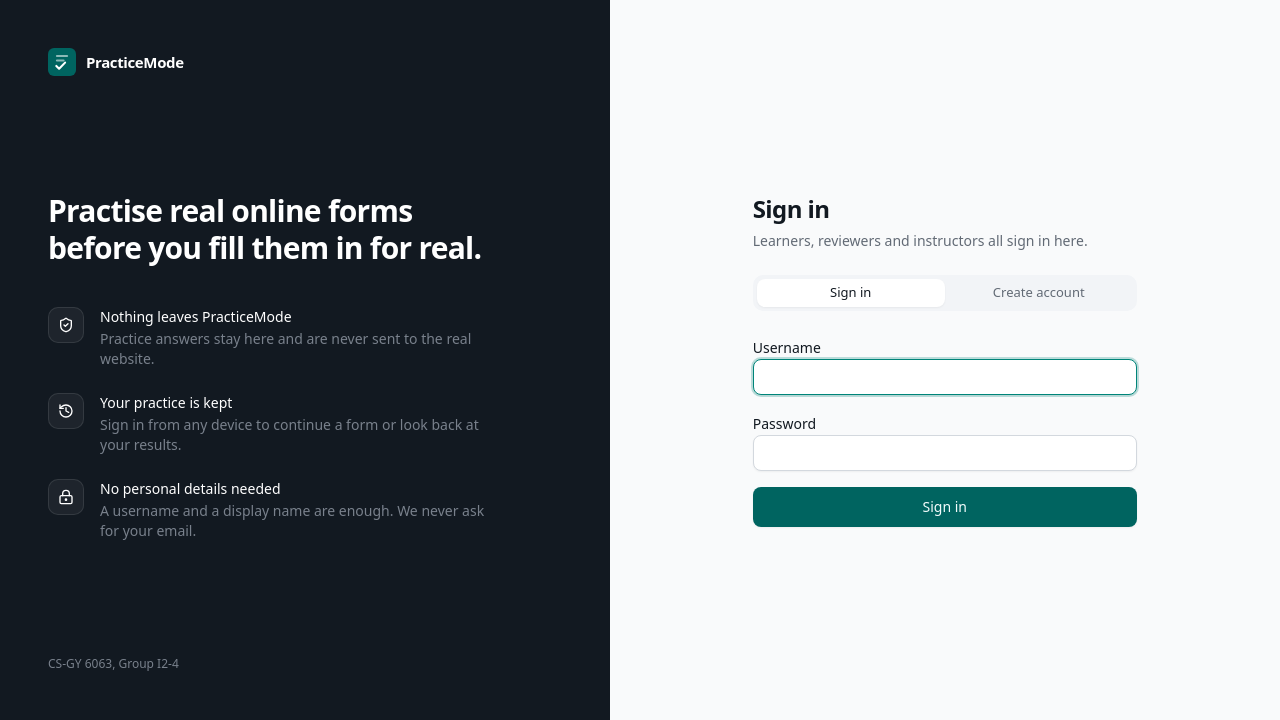
Test case: SignIn › AC-02: invalid credentials show an error and do not sign in
Step 1. Type "maya_r" into the field labelled "Username" → (945, 377), box [753,359,1137,395]
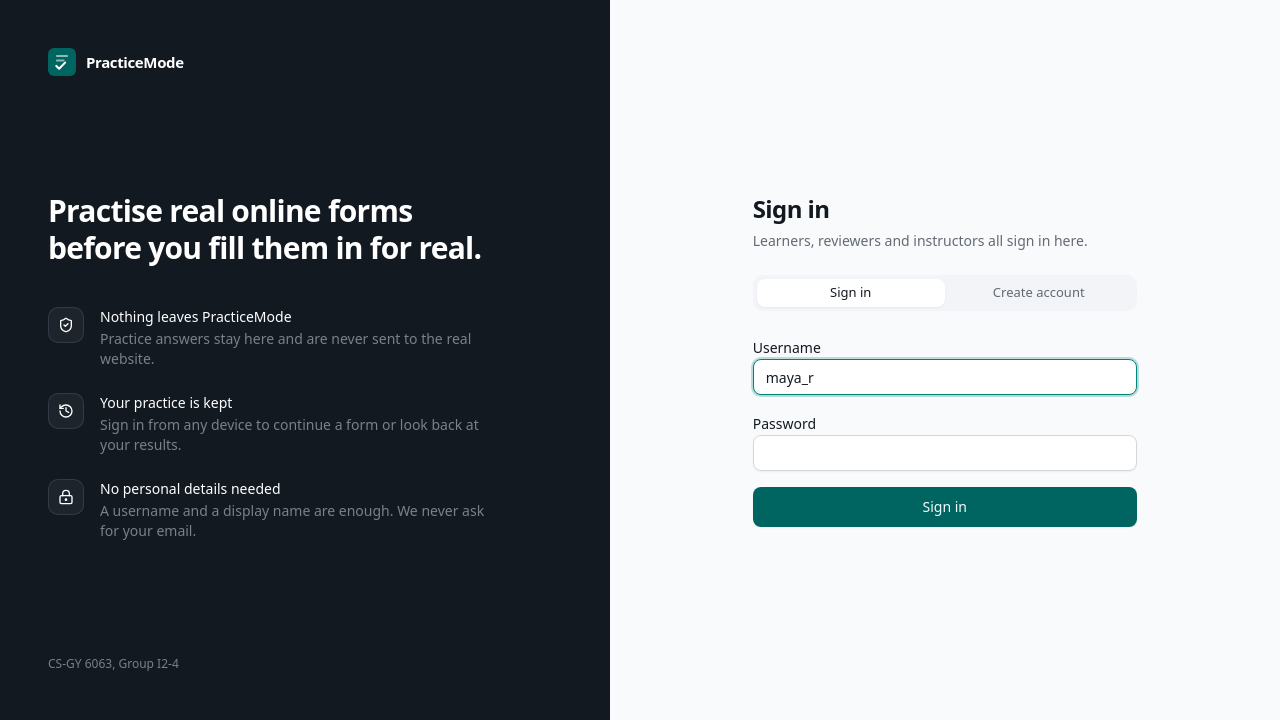
Step 2. Type "wrong-password" into the password field labelled "Password" → (945, 453), box [753,435,1137,471]
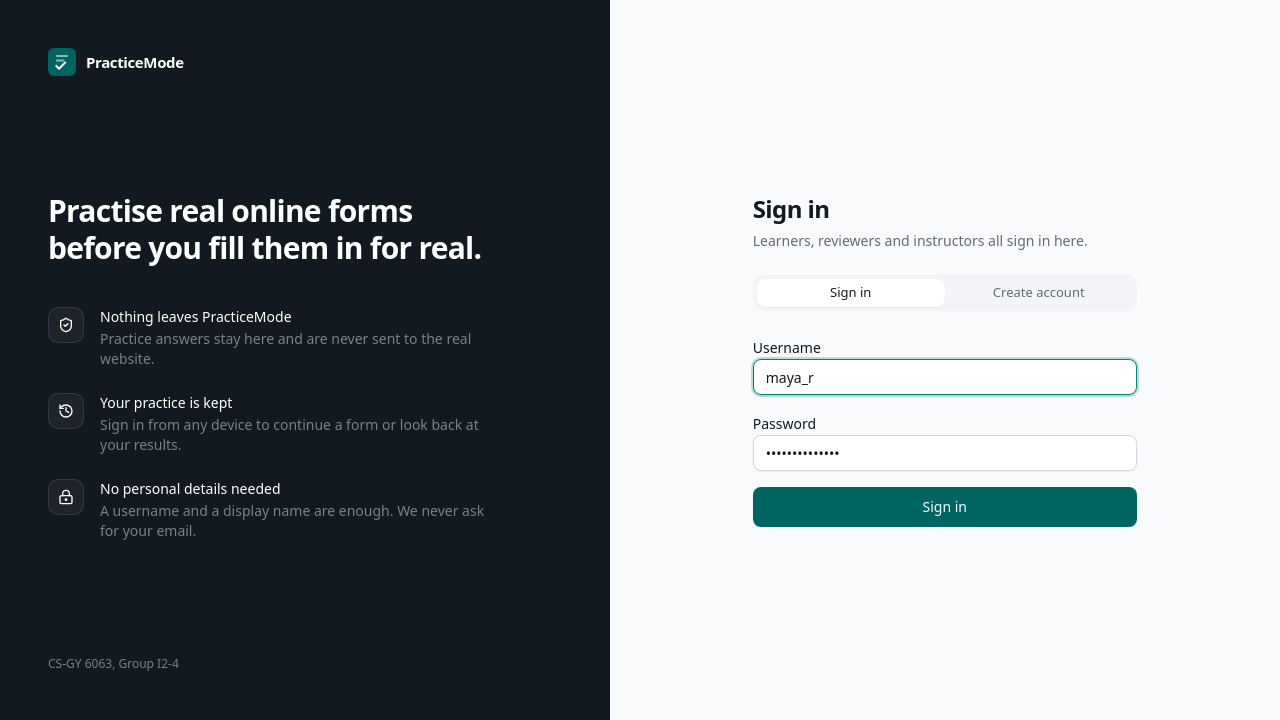
Step 3. Click the button "Sign in" → (945, 507), box [753,487,1137,527]
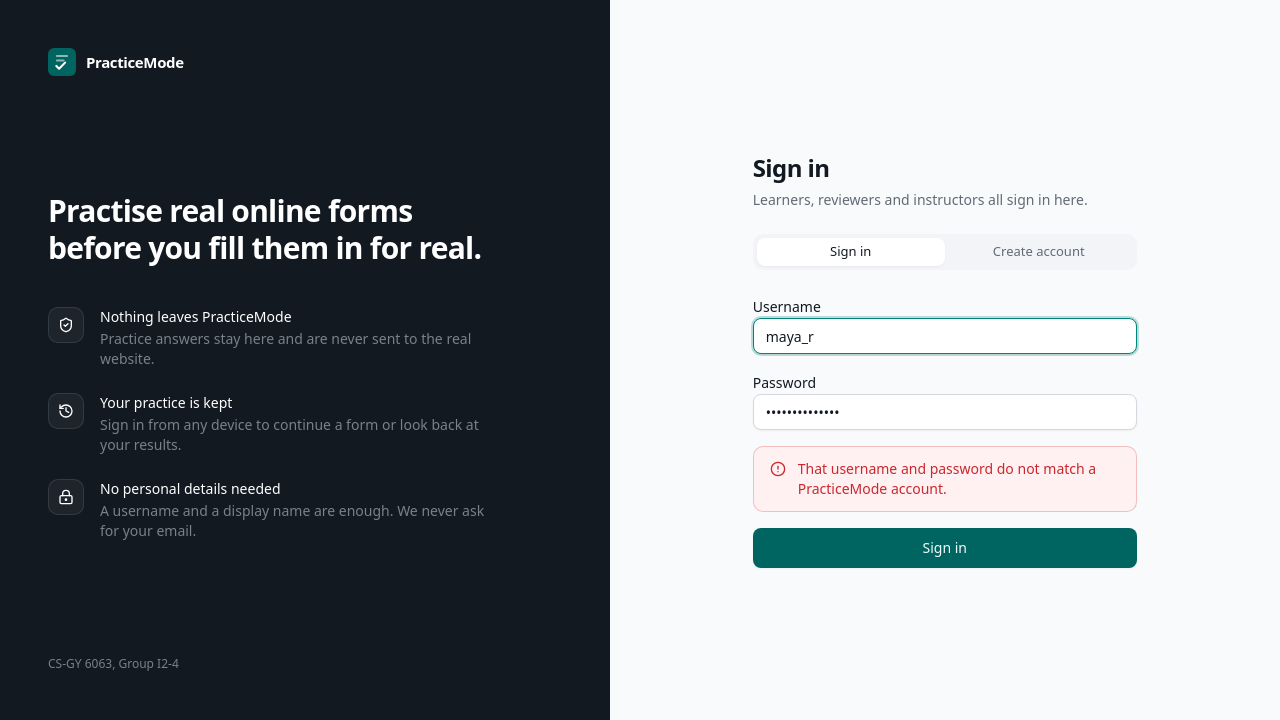
Expected: the message shows "do not match", [798,459,1096,498]
